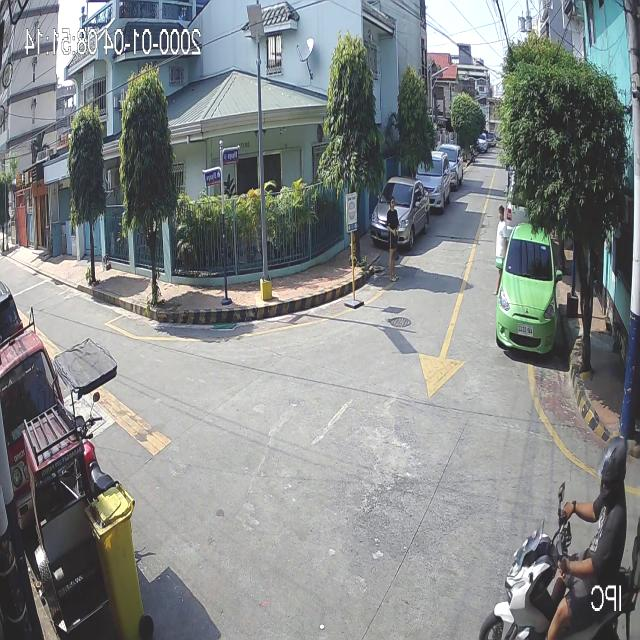standing: (385, 195, 400, 282)
walking: (492, 205, 508, 296)
